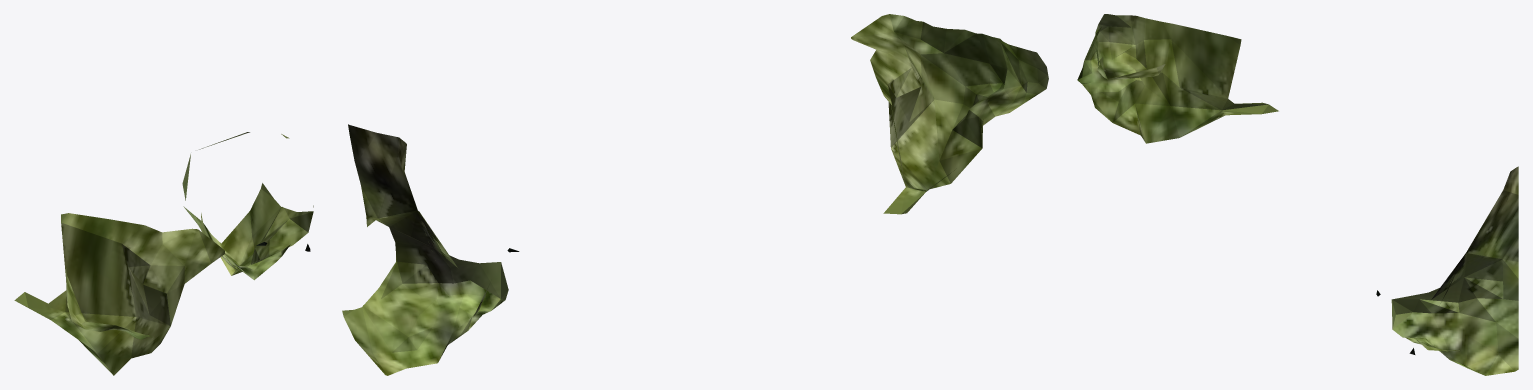
The picture shows the model from 3 angles, left to right: view 1: azimuth 30°, elevation 25°; view 2: azimuth 150°, elevation 25°; view 3: azimuth 270°, elevation 25°; orthographic projection. The views are drawn at different scales.
Size of the model in its own units: 1.86 by 0.9587 by 1.91.
Materials: 1 (1 with a texture image).
